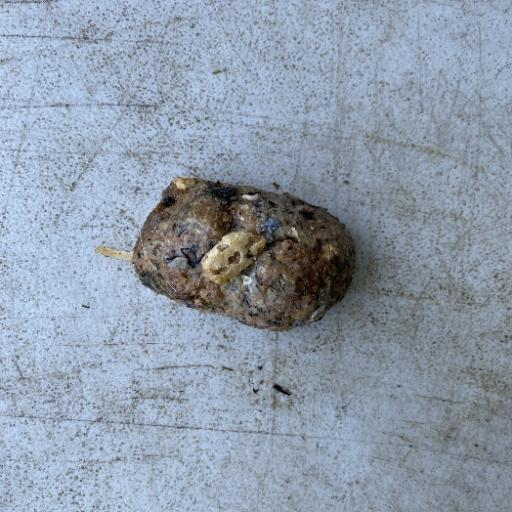Waste: (128, 175, 357, 332)
